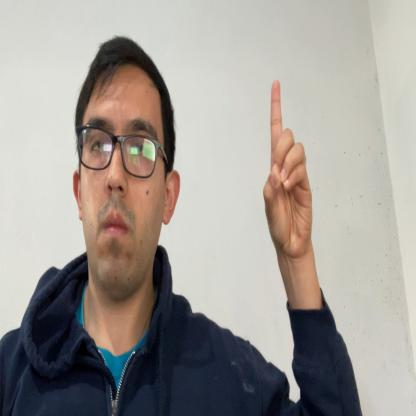D: (262, 80, 314, 256)
